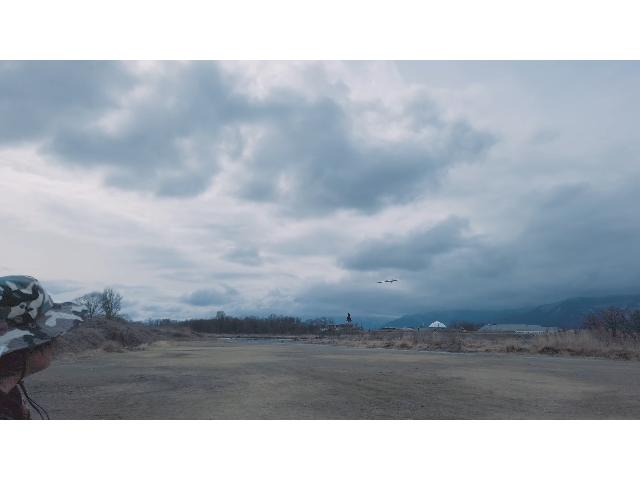Anti-Drone: (375, 275, 403, 286)
